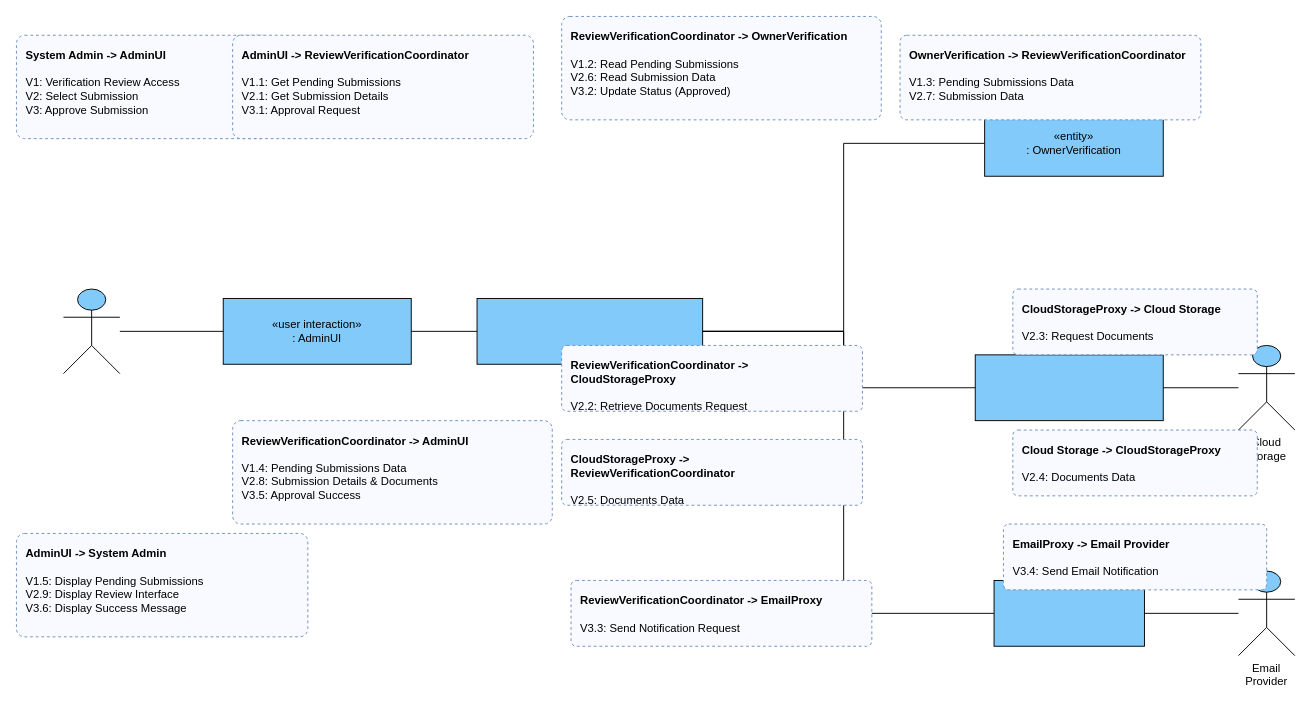
Image size: 1311x706. Some labels were removed from this diagram. Each missing label, with the centre of its shape:
"System Admin" belongs at pixel 91 331.
"«coordinator» : ReviewVerificationCoordinator" belongs at pixel 589 331.
"«proxy» : CloudStorageProxy" belongs at pixel 1068 387.
"«proxy» : EmailProxy" belongs at pixel 1068 613.
